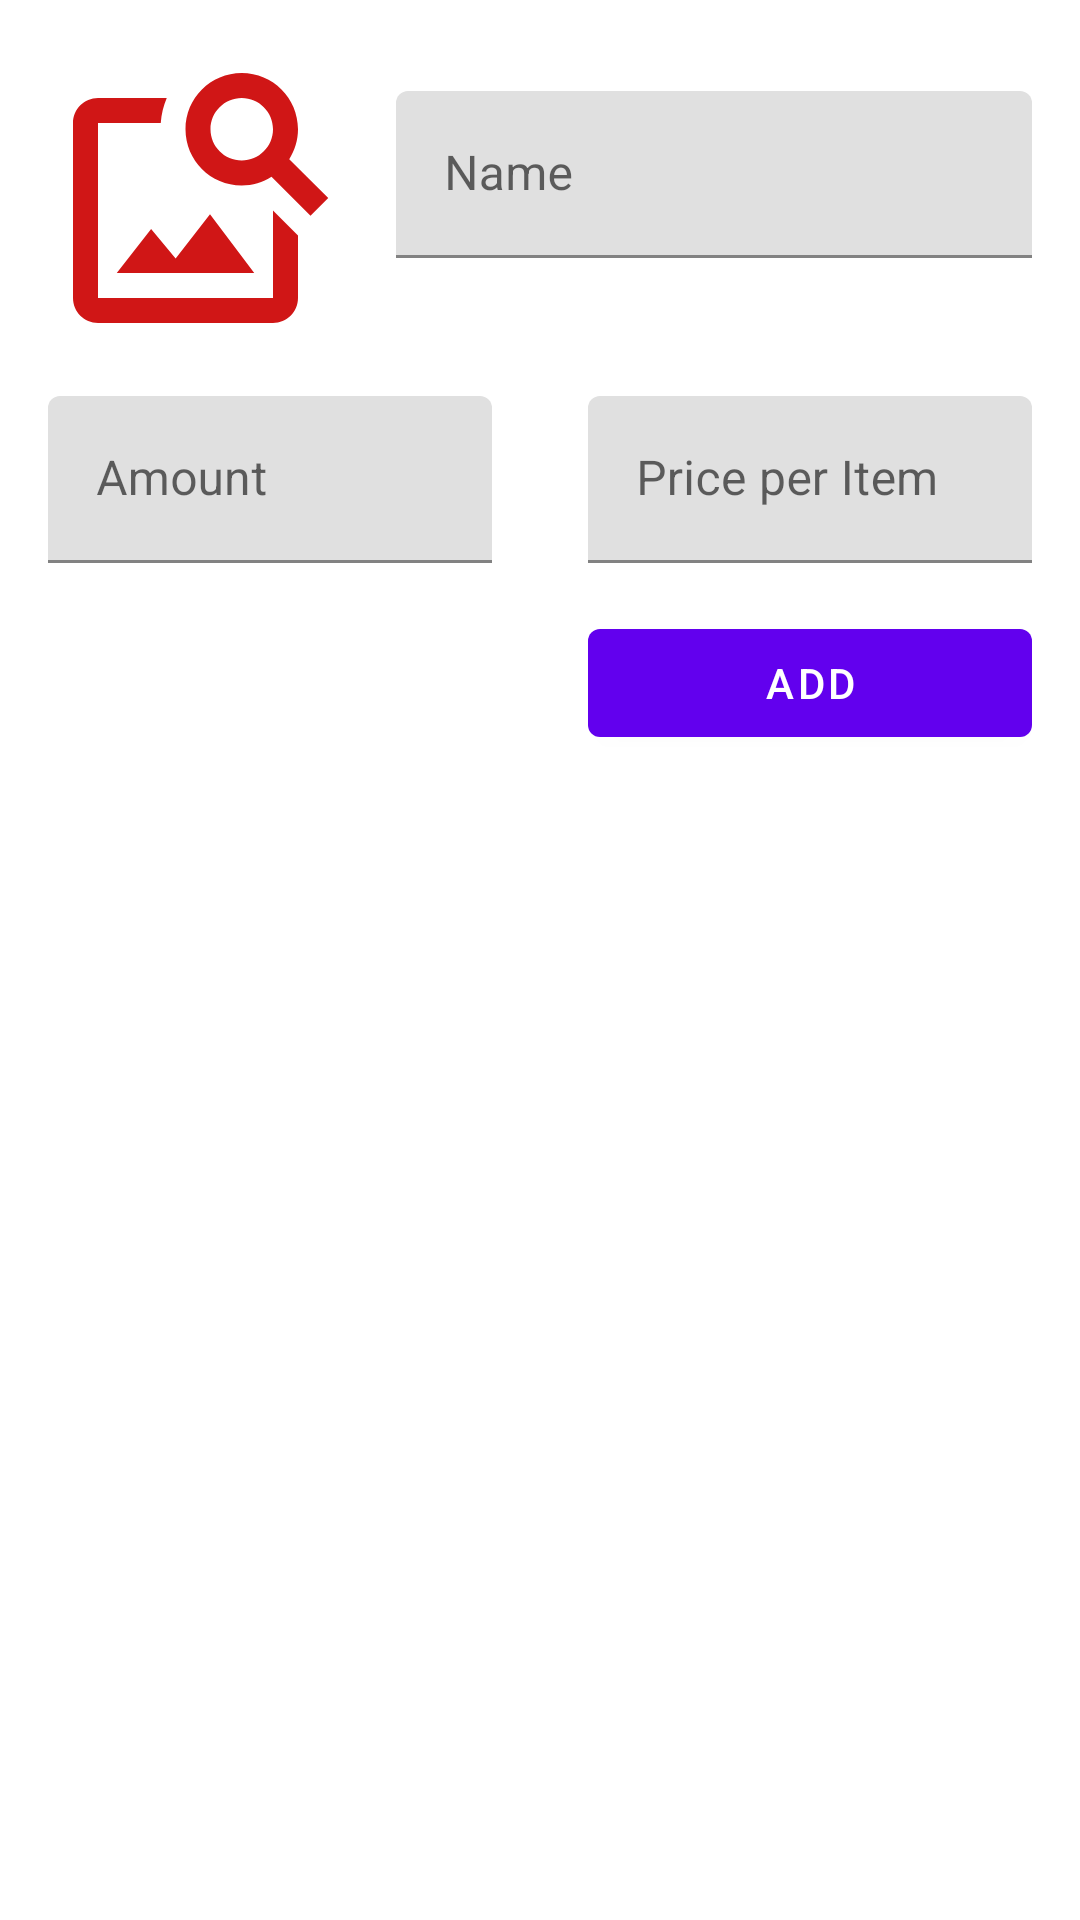

Where icons sit on this 1080px x 1920px app screen, as detection(x1, y1, x2, y2):
search: detection(73, 73, 328, 323)
